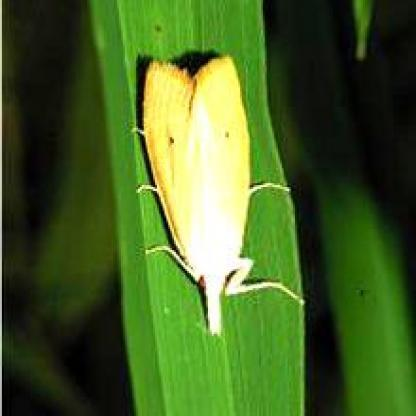stem-borer: (130, 53, 306, 338)
